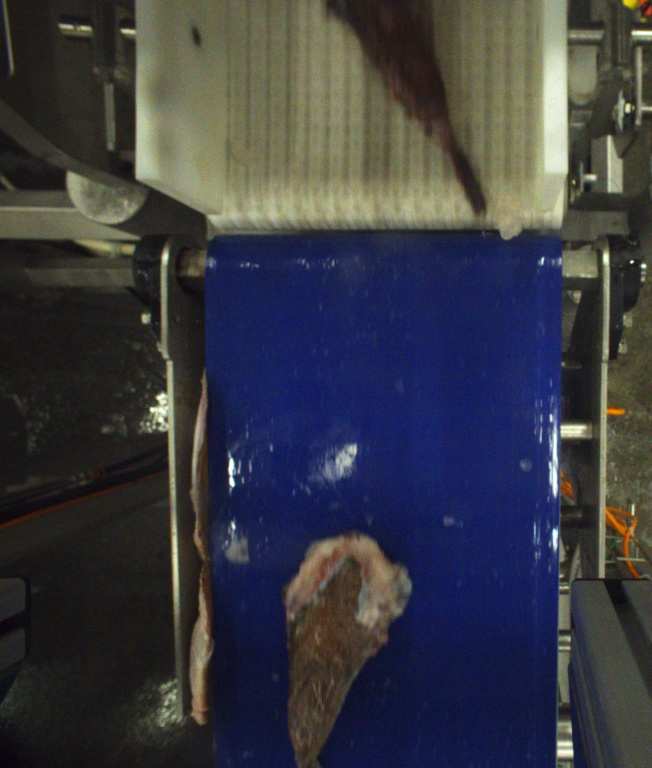ANF: (325, 0, 490, 225)
